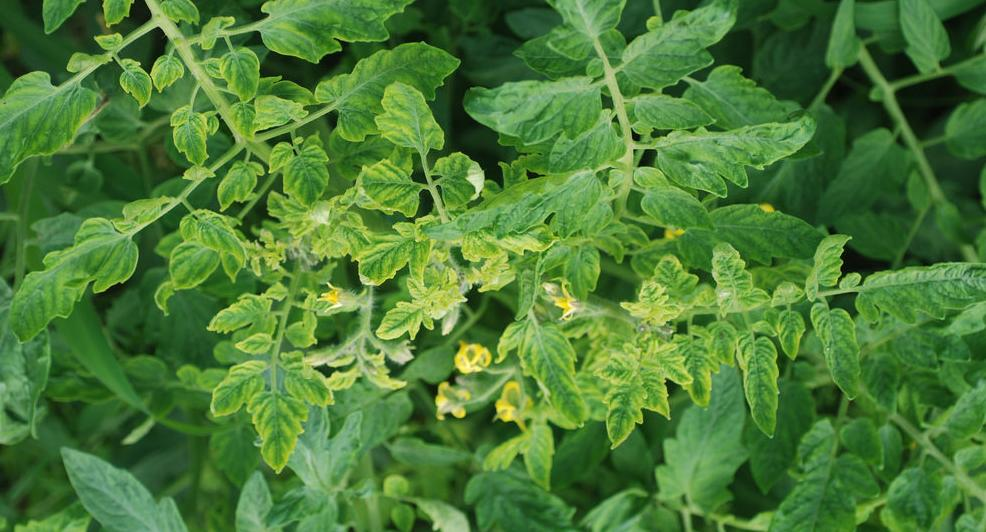Tomato leaf yellow virus: (10, 213, 132, 349), (313, 42, 466, 149), (456, 157, 612, 250), (0, 66, 93, 189), (258, 0, 428, 58), (466, 75, 608, 144), (623, 0, 738, 84), (856, 254, 986, 326), (518, 316, 587, 430), (243, 384, 319, 473), (627, 243, 697, 329), (266, 129, 338, 211), (735, 333, 785, 444), (375, 77, 447, 151), (361, 216, 430, 289), (209, 350, 279, 420), (635, 182, 721, 234), (354, 157, 424, 219), (597, 371, 648, 453), (182, 202, 248, 264), (798, 235, 855, 299), (431, 150, 484, 209), (703, 236, 752, 298), (207, 291, 274, 335), (111, 52, 157, 116), (214, 156, 265, 213), (561, 241, 607, 301), (223, 40, 264, 103), (168, 106, 208, 169), (372, 306, 431, 344), (150, 50, 190, 95), (101, 0, 138, 31)
